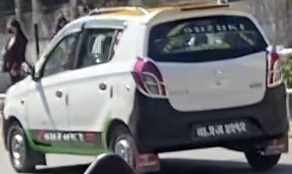license_plate: (193, 119, 247, 139)
